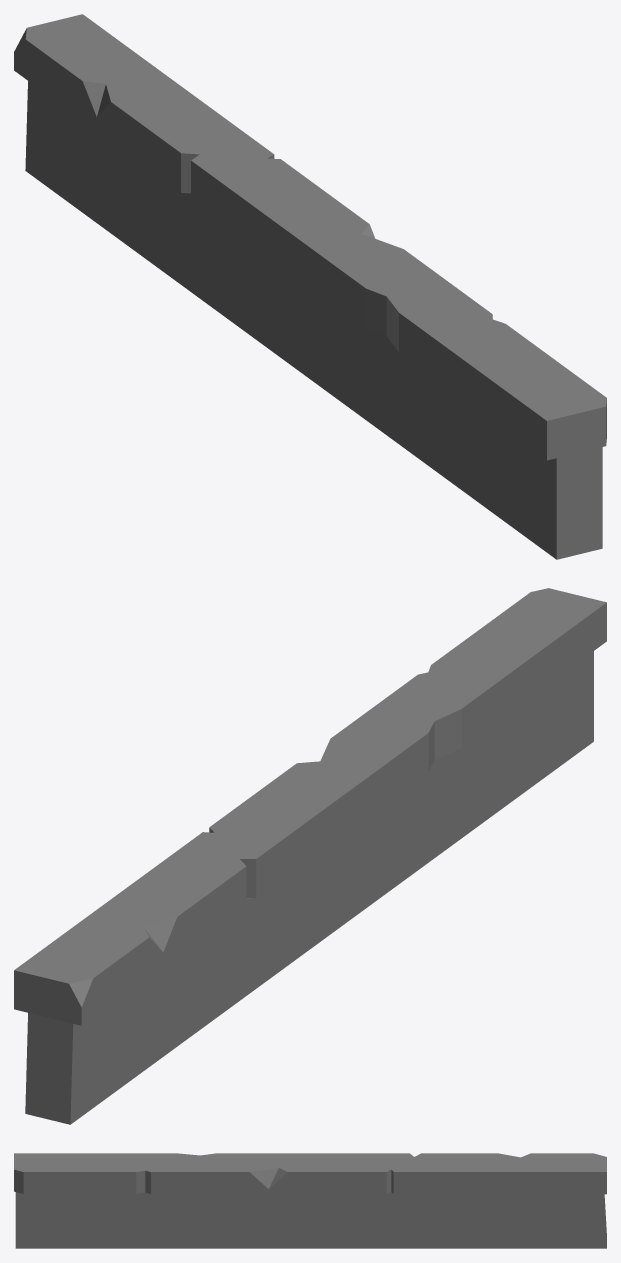
File: stone_6.fbx
3 views of the same model, one above another, from view 1: azimuth 30°, elevation 25°; view 2: azimuth 150°, elevation 25°; view 3: azimuth 270°, elevation 25° (orthographic). The views are drawn at different scales.
Visible parts, largest first — view 1: stone_6; view 2: stone_6; view 3: stone_6.
Boxes of the visible parts, left/top/right/bottom form: stone_6: left=14, top=14, right=606, bottom=559; stone_6: left=14, top=588, right=606, bottom=1124; stone_6: left=14, top=1153, right=606, bottom=1248.
Bounding box in the file's own units: 44.67 × 88.72 × 600.
